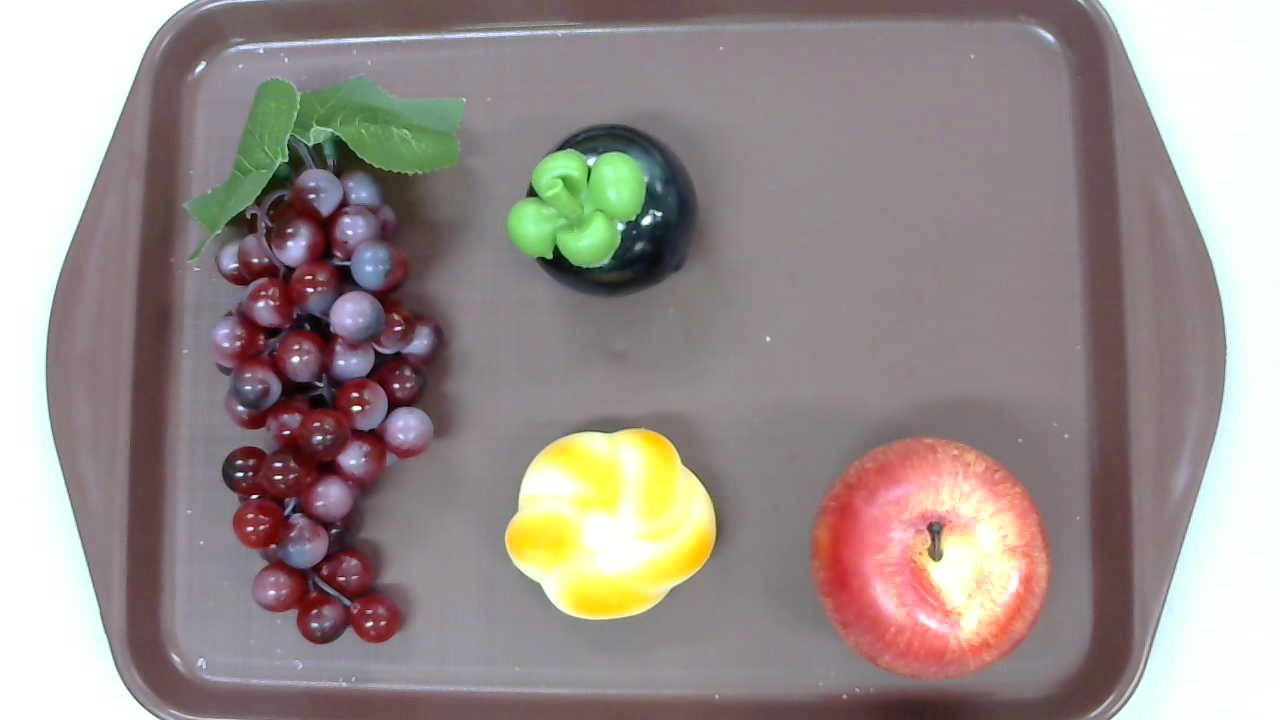grape: (181, 75, 466, 647)
mangosteen: (506, 124, 698, 297)
red apple: (808, 435, 1051, 683)
twist bread: (504, 426, 717, 621)
